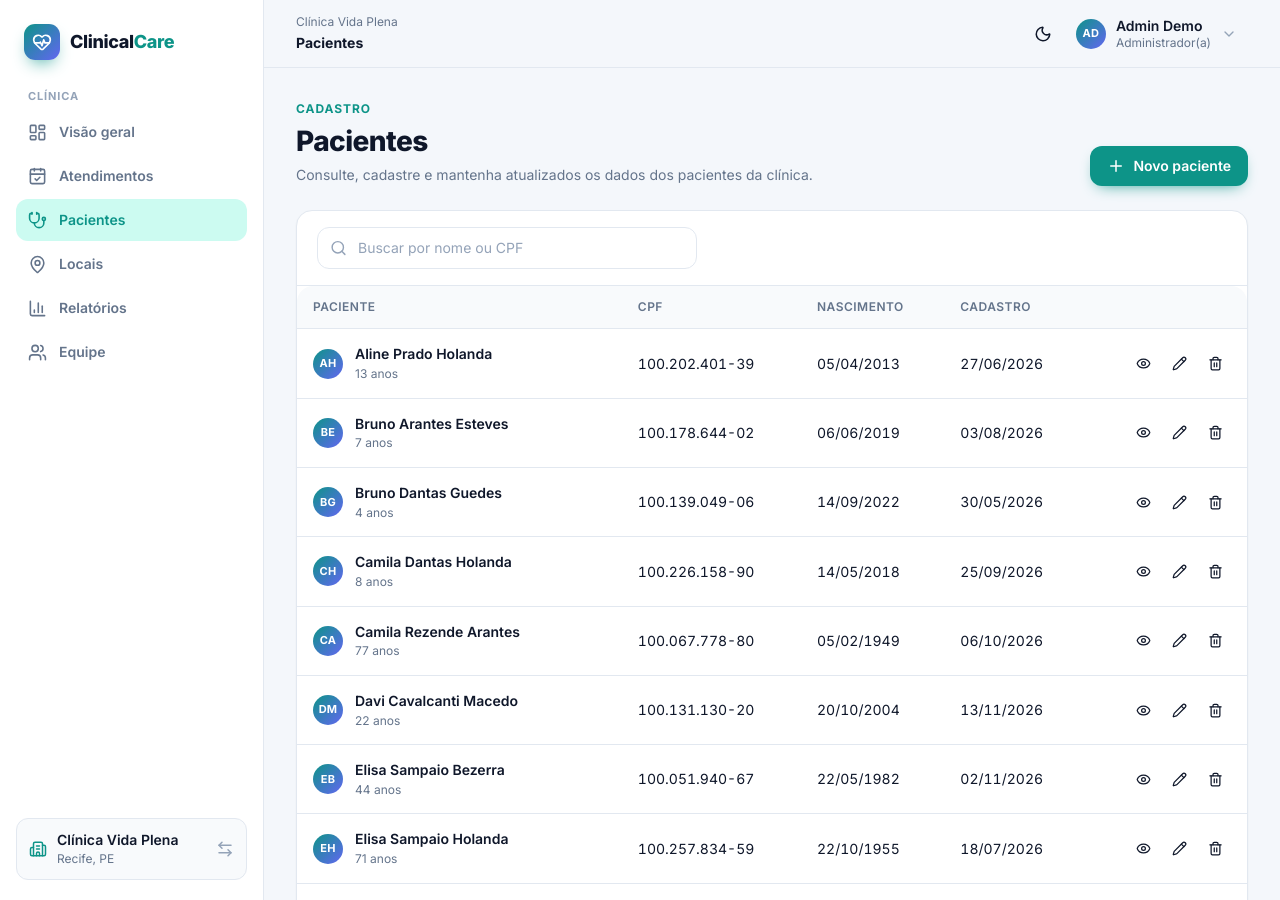
Test: cache de consultas › esvazia o cache ao trocar de clínica
Click the button titled "Trocar de clínica" at (132, 849), box top-left (16, 818), bottom-right (247, 880)
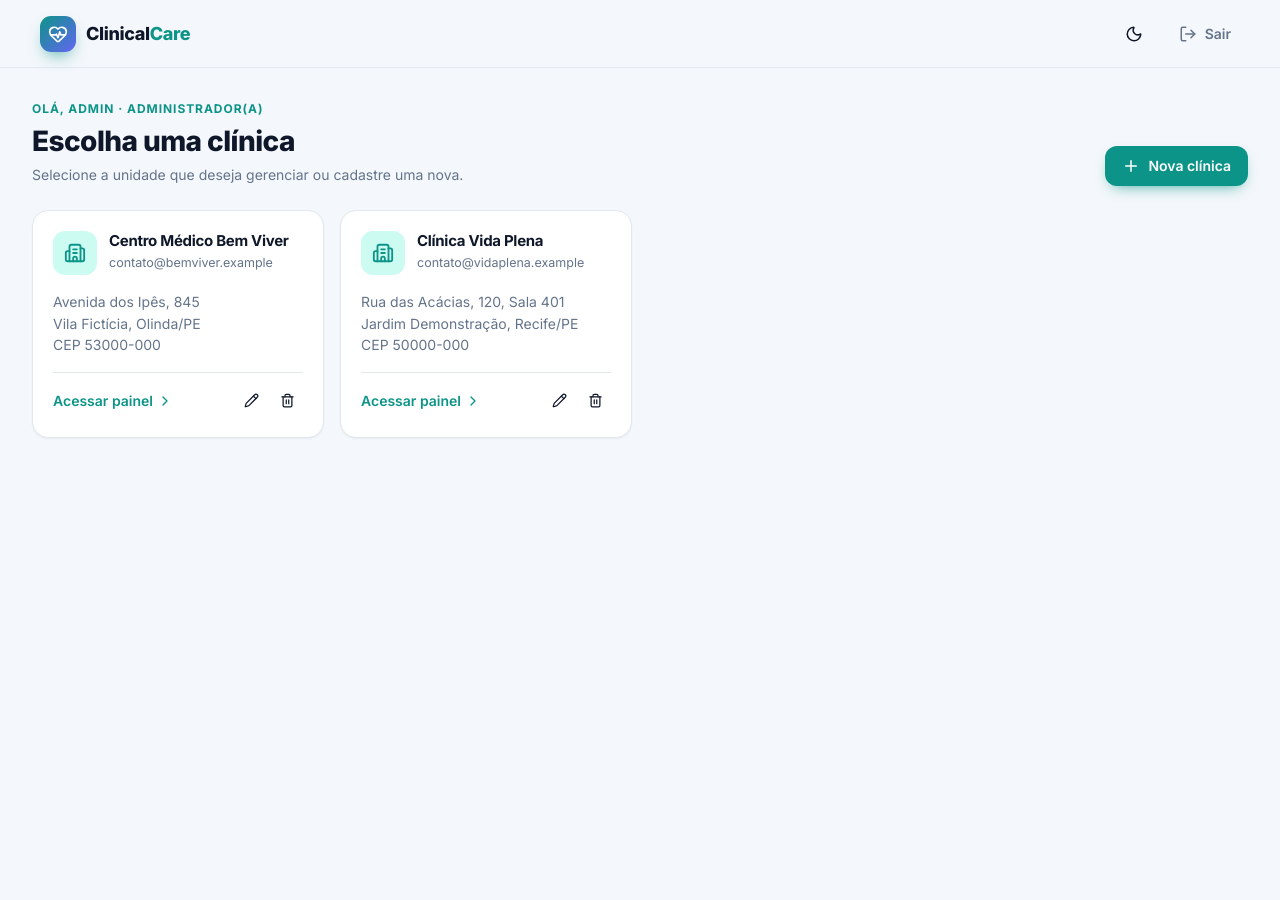
Now the heading "Escolha uma clínica" is shown, box top-left (32, 124), bottom-right (295, 158)
Click the button with aria-label "Entrar na Centro Médico Bem Viver" at (178, 324), box top-left (32, 210), bottom-right (324, 438)
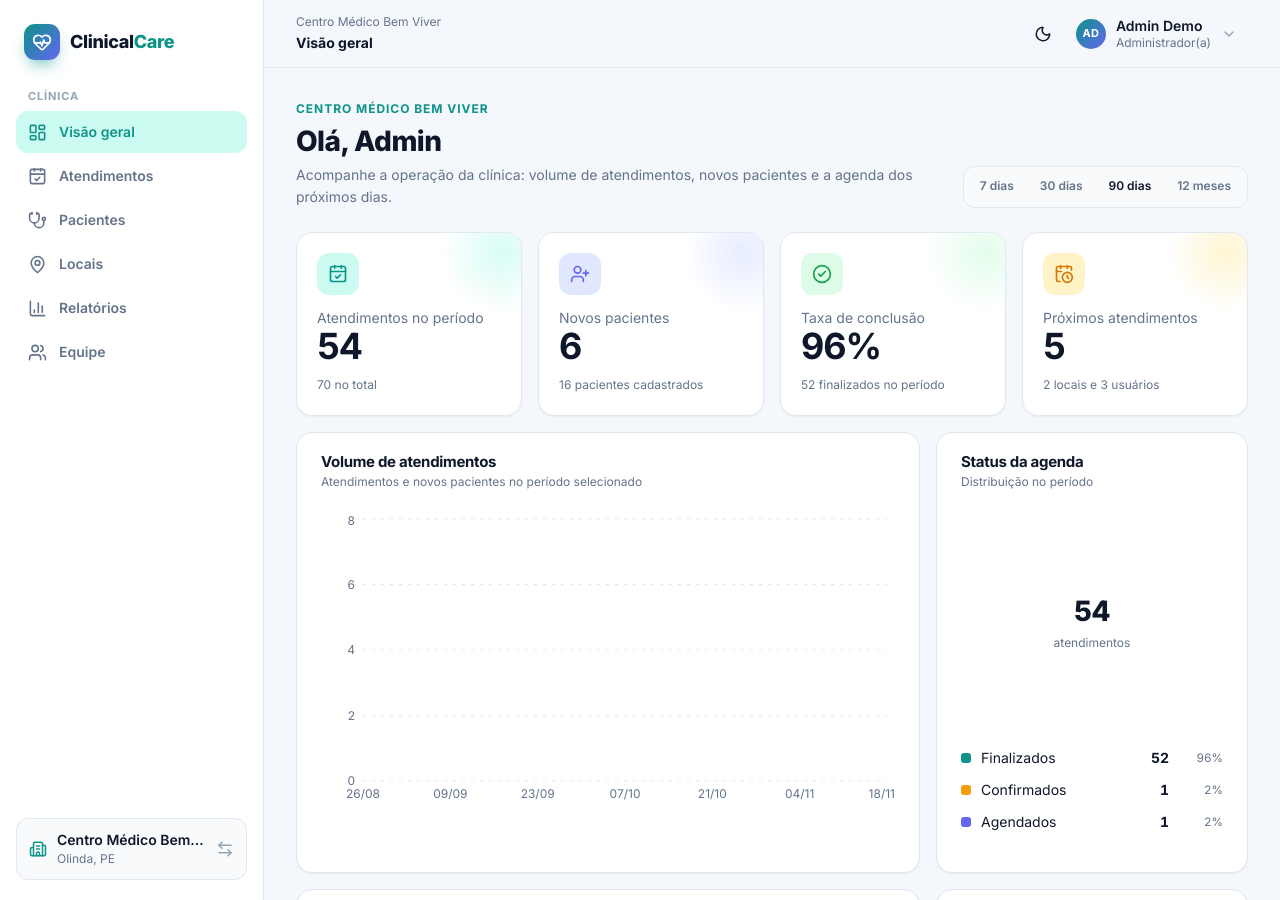
Click the link "Pacientes" at (77, 220), box top-left (28, 210), bottom-right (125, 230)
(page scrolled)
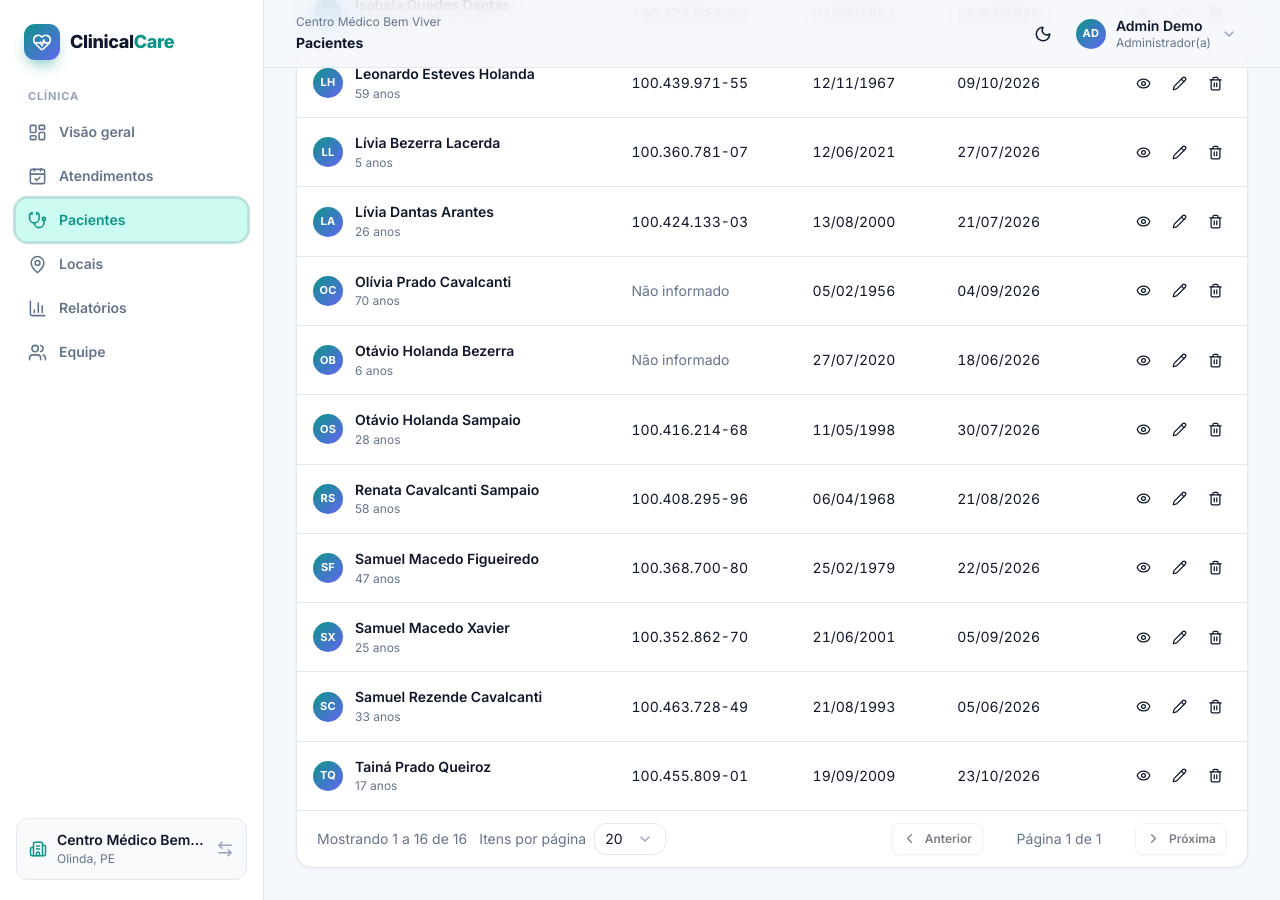
Now the text "Mostrando 1 a 16 de 16" is shown, box top-left (317, 828), bottom-right (467, 850)
